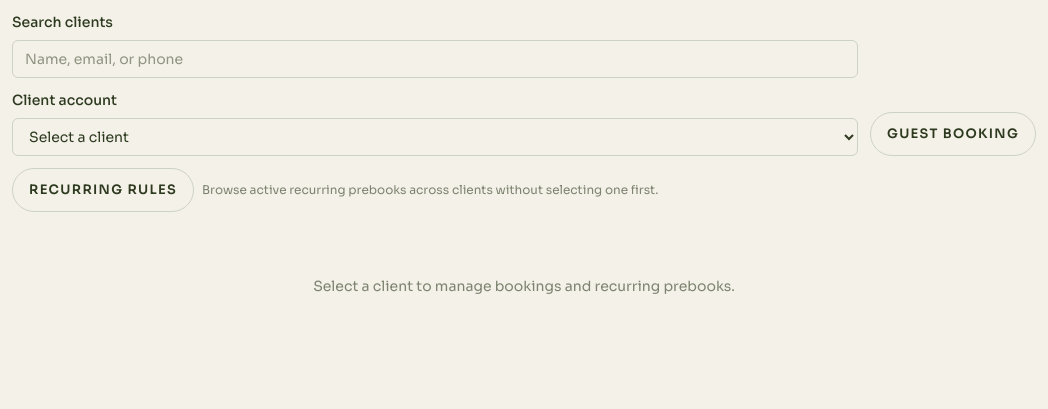
it: ClientBookingManagerPanel › shows a dashboard load error with retry
Select "Sam Client (+357 99 222222)" in the dropdown labelled "Client account" at [435, 137], box [12, 118, 858, 156]
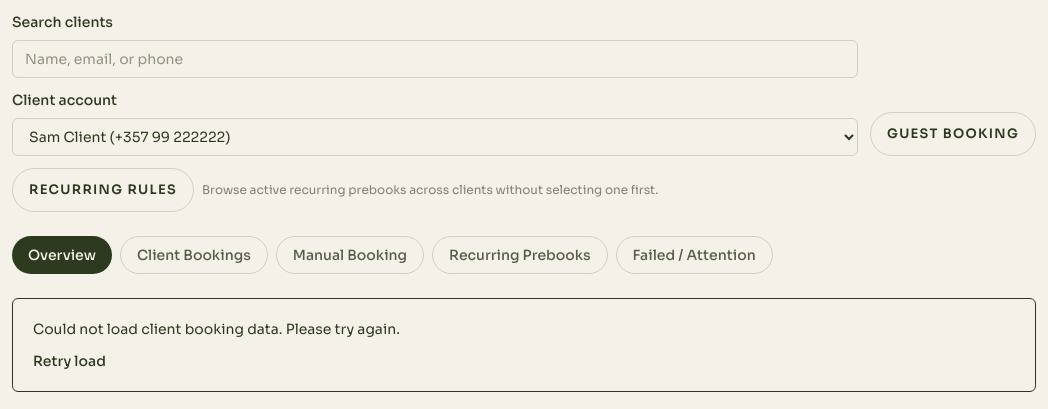
Check: the text "Could not load client booking data. Please try again." is shown, box [33, 320, 400, 338]
